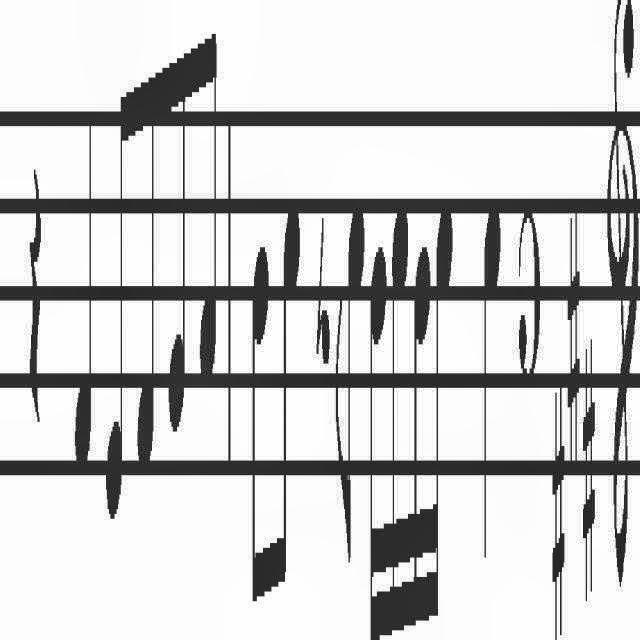Bass-clef: (608, 0, 639, 596)
Diez: (582, 338, 596, 602), (567, 211, 581, 467), (552, 388, 566, 640)
Eighth-note: (106, 47, 134, 521), (335, 197, 365, 571), (137, 38, 159, 482), (168, 26, 192, 430), (280, 181, 300, 599), (250, 226, 270, 634), (198, 3, 218, 389)
Eighth-rest: (316, 206, 330, 380)
Quarter-note: (482, 197, 502, 571), (75, 98, 93, 476)
Quarter-rest: (30, 156, 42, 430)
Sixteenth-note: (368, 218, 388, 640), (434, 207, 454, 625), (392, 188, 410, 640), (412, 238, 432, 638)
